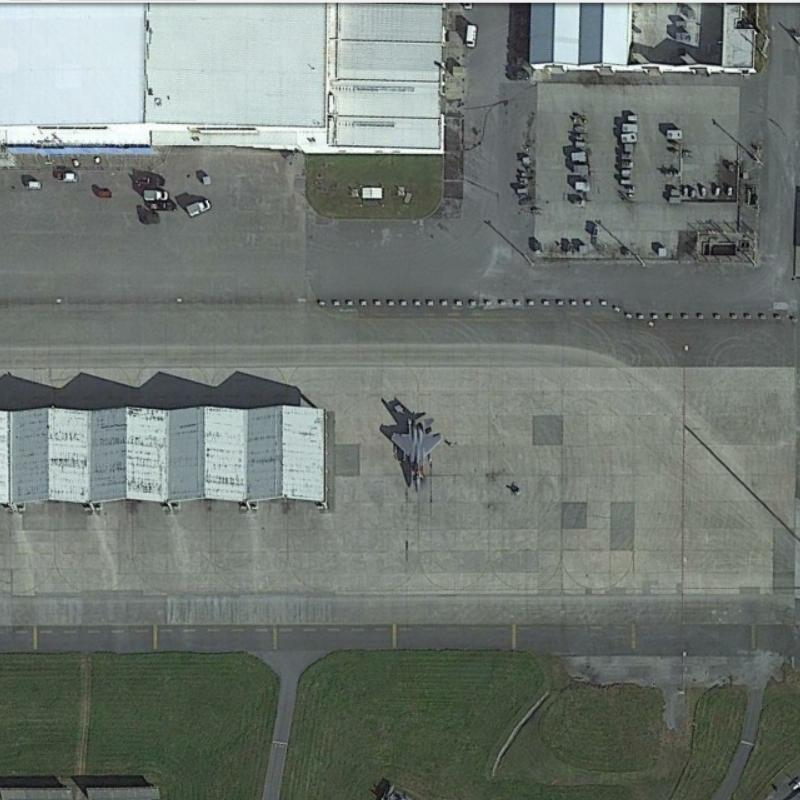A13: (388, 412, 445, 492)
